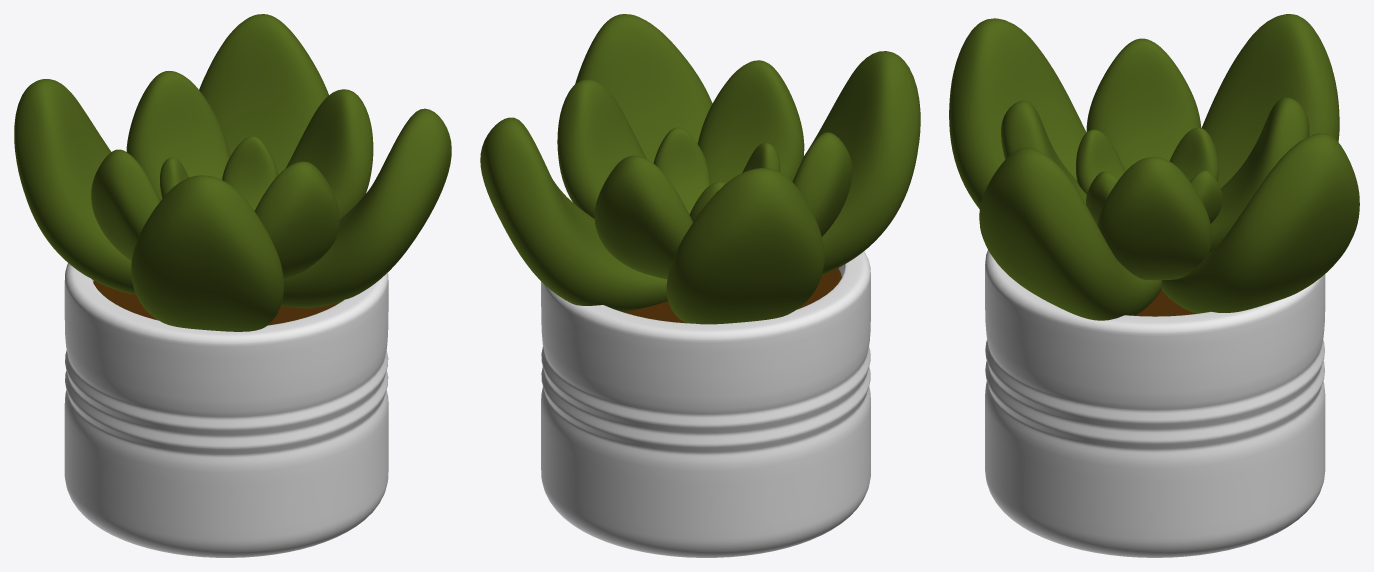
File: Fejka.fbx
The picture shows the model from 3 angles, left to right: view 1: azimuth 30°, elevation 25°; view 2: azimuth 150°, elevation 25°; view 3: azimuth 270°, elevation 25°; orthographic projection. The views are drawn at different scales.
Parts seen in each view (by area): view 1: Cylinder, Cube.008, Cube.007, Cube.006, Cube.009, Cube.002, Cube.003, Cube.005, Cube.004, Cube.013, Cube.010; view 2: Cylinder, Cube.006, Cube.009, Cube.008, Cube.007, Cube.003, Cube.002, Cube.005, Cube.004, Cube.011, Cube.012; view 3: Cylinder, Cube.009, Cube.007, Cube.008, Cube.006, Cube.005, Cube.004, Cube.002, Cube.003, Cube.012, Cube.010, Cube.013 (+1 smaller).
Boxes of the visible parts, x1,y1,x2,y2 form: Cylinder: (64,263,388,557); Cube.008: (131,175,283,331); Cube.007: (281,108,451,308); Cube.006: (14,79,135,294); Cube.009: (199,14,328,174); Cube.002: (126,71,230,200); Cube.003: (254,161,339,279); Cube.005: (286,89,373,219); Cube.004: (91,149,160,260); Cube.013: (222,136,278,210); Cube.010: (160,157,188,198); Cylinder: (541,251,870,557); Cube.006: (666,168,824,324); Cube.009: (480,117,668,311); Cube.008: (803,51,920,274); Cube.007: (575,14,712,163); Cube.003: (697,60,804,184); Cube.002: (594,155,692,279); Cube.005: (557,79,646,218); Cube.004: (792,132,852,236); Cube.011: (653,127,710,214); Cube.012: (742,142,780,172); Cylinder: (985,250,1325,557); Cube.009: (1161,133,1359,313); Cube.007: (979,147,1161,320); Cube.008: (949,18,1086,209); Cube.006: (1202,14,1339,187); Cube.005: (1097,157,1211,280); Cube.004: (1086,38,1201,170); Cube.002: (1209,97,1309,252); Cube.003: (1001,100,1086,203); Cube.012: (1076,129,1125,194); Cube.010: (1169,127,1218,181); Cube.013: (1190,170,1222,223).
Size of the model in its own units: 148 by 175 by 154.
